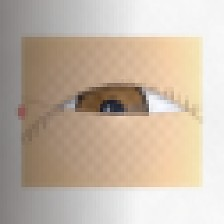hemorrhage_spot: (75, 96, 133, 143)
